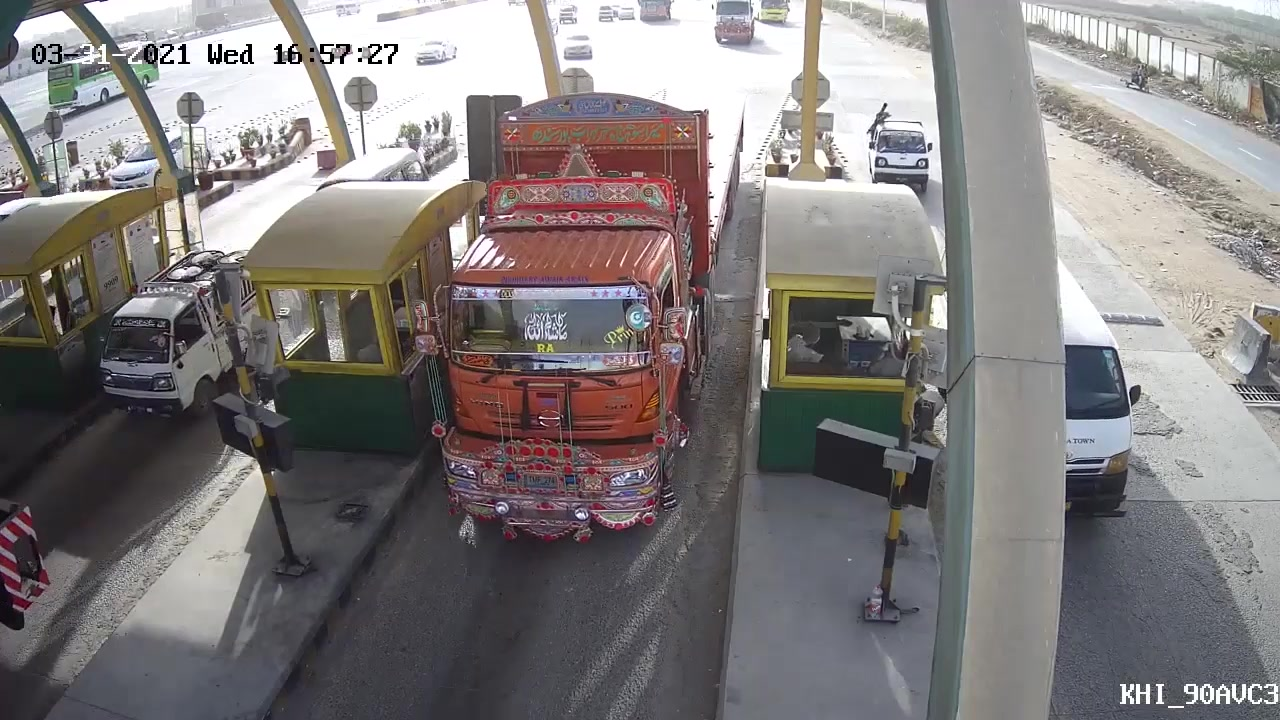F6: (416, 85, 754, 531)
